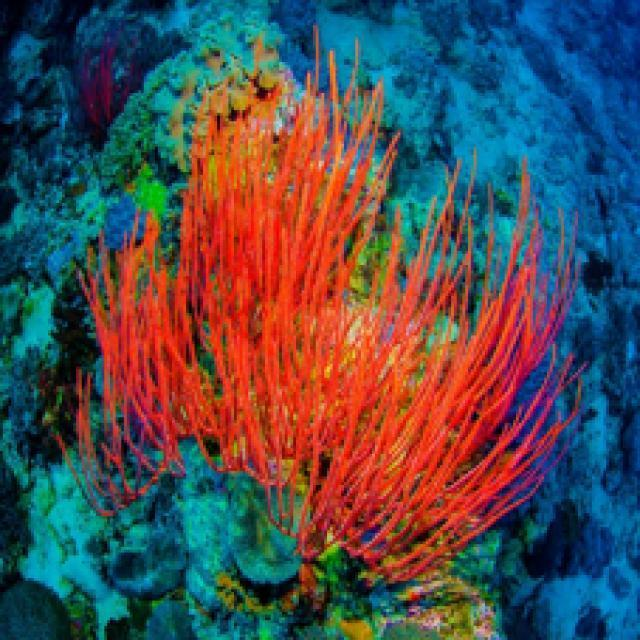Healthy: (304, 206, 568, 581), (178, 84, 363, 472), (82, 260, 195, 482)
